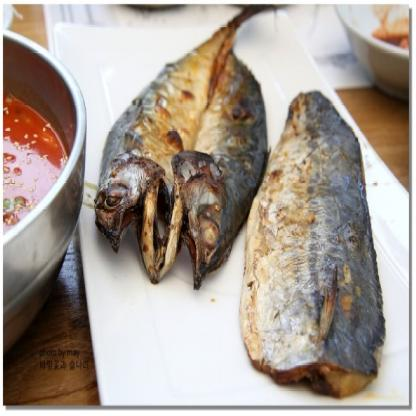Peixe: (93, 11, 392, 402)
